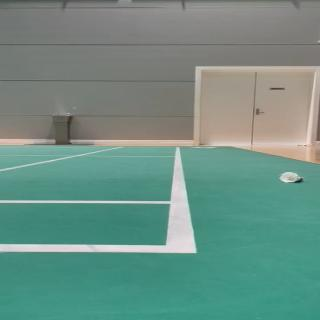Shuttle: (279, 172, 304, 182)
